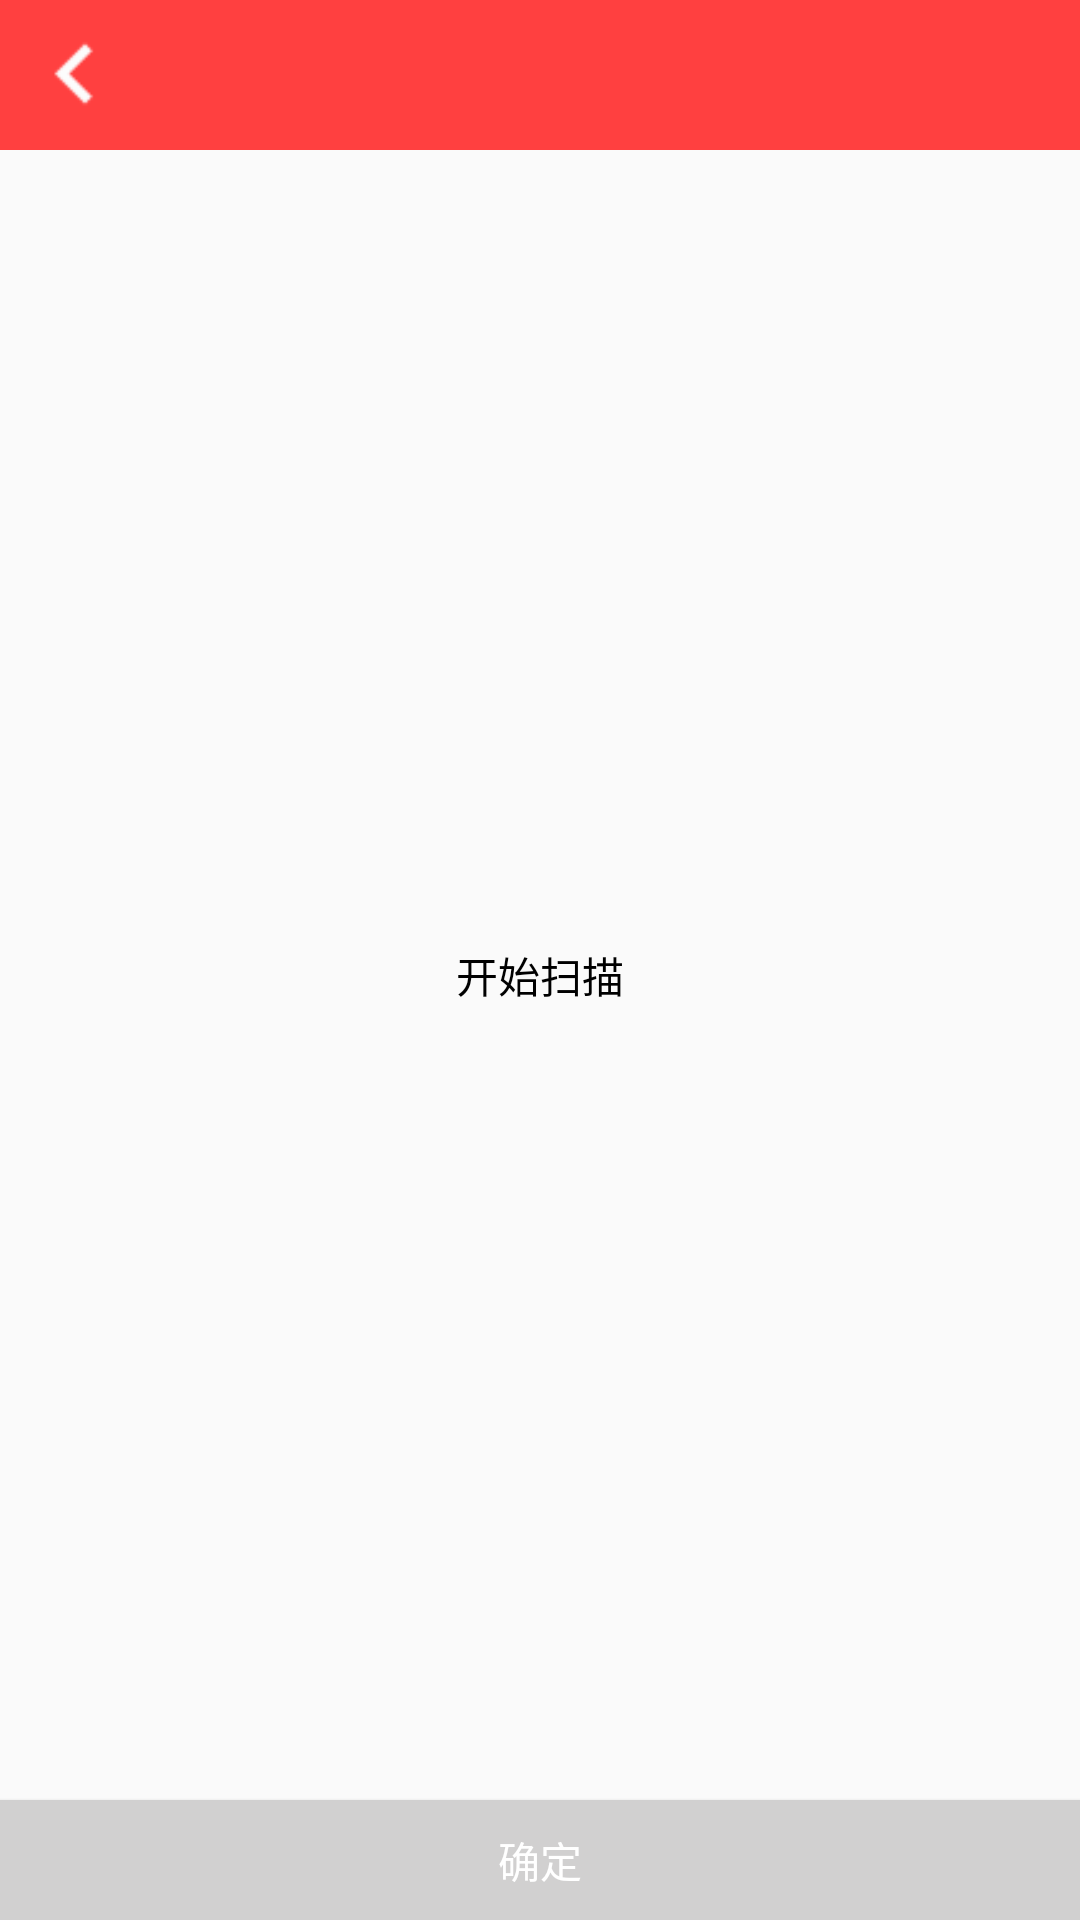

Locate icon controls on the screen. Image size 1080 x 1920, boxes as (x1, y1, x2, y2).
last: (54, 44, 93, 104)
